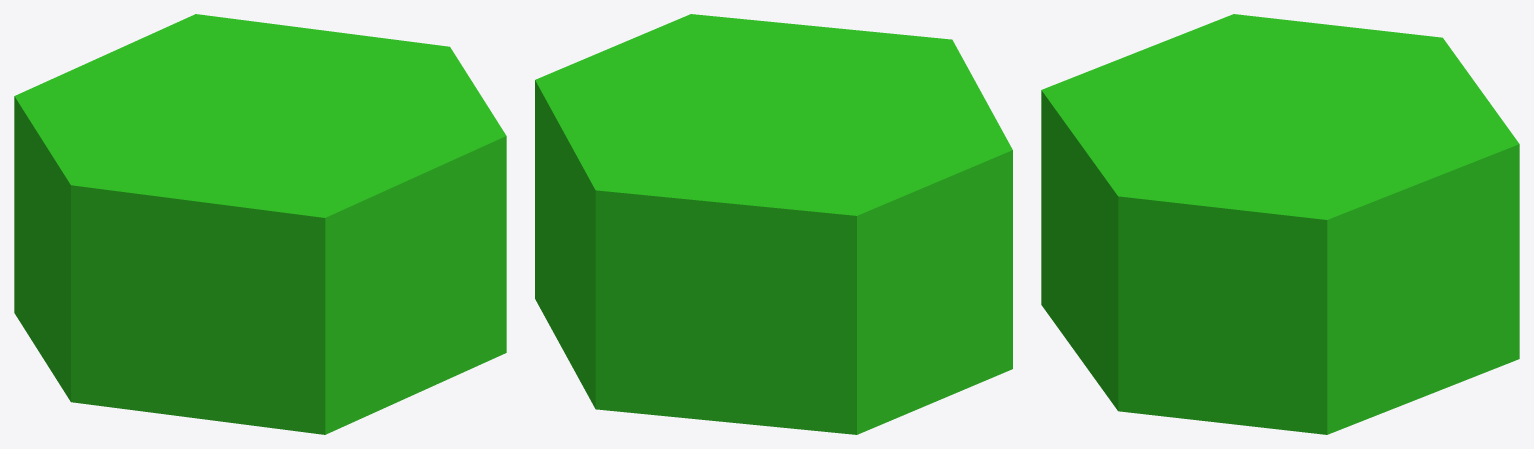
Rendered from NormalContent.fbx.
3 views of the same model, side by side, from view 1: azimuth 30°, elevation 25°; view 2: azimuth 150°, elevation 25°; view 3: azimuth 270°, elevation 25° (orthographic).
Parts seen in each view (by area): view 1: Model; view 2: Model; view 3: Model.
Boxes of the visible parts, x1,y1,x2,y2 form: Model: (14, 14, 506, 434); Model: (535, 14, 1012, 434); Model: (1041, 14, 1519, 434).
Size of what is drawn, in the model's own units: 0.6332 by 0.308 by 0.6211.
